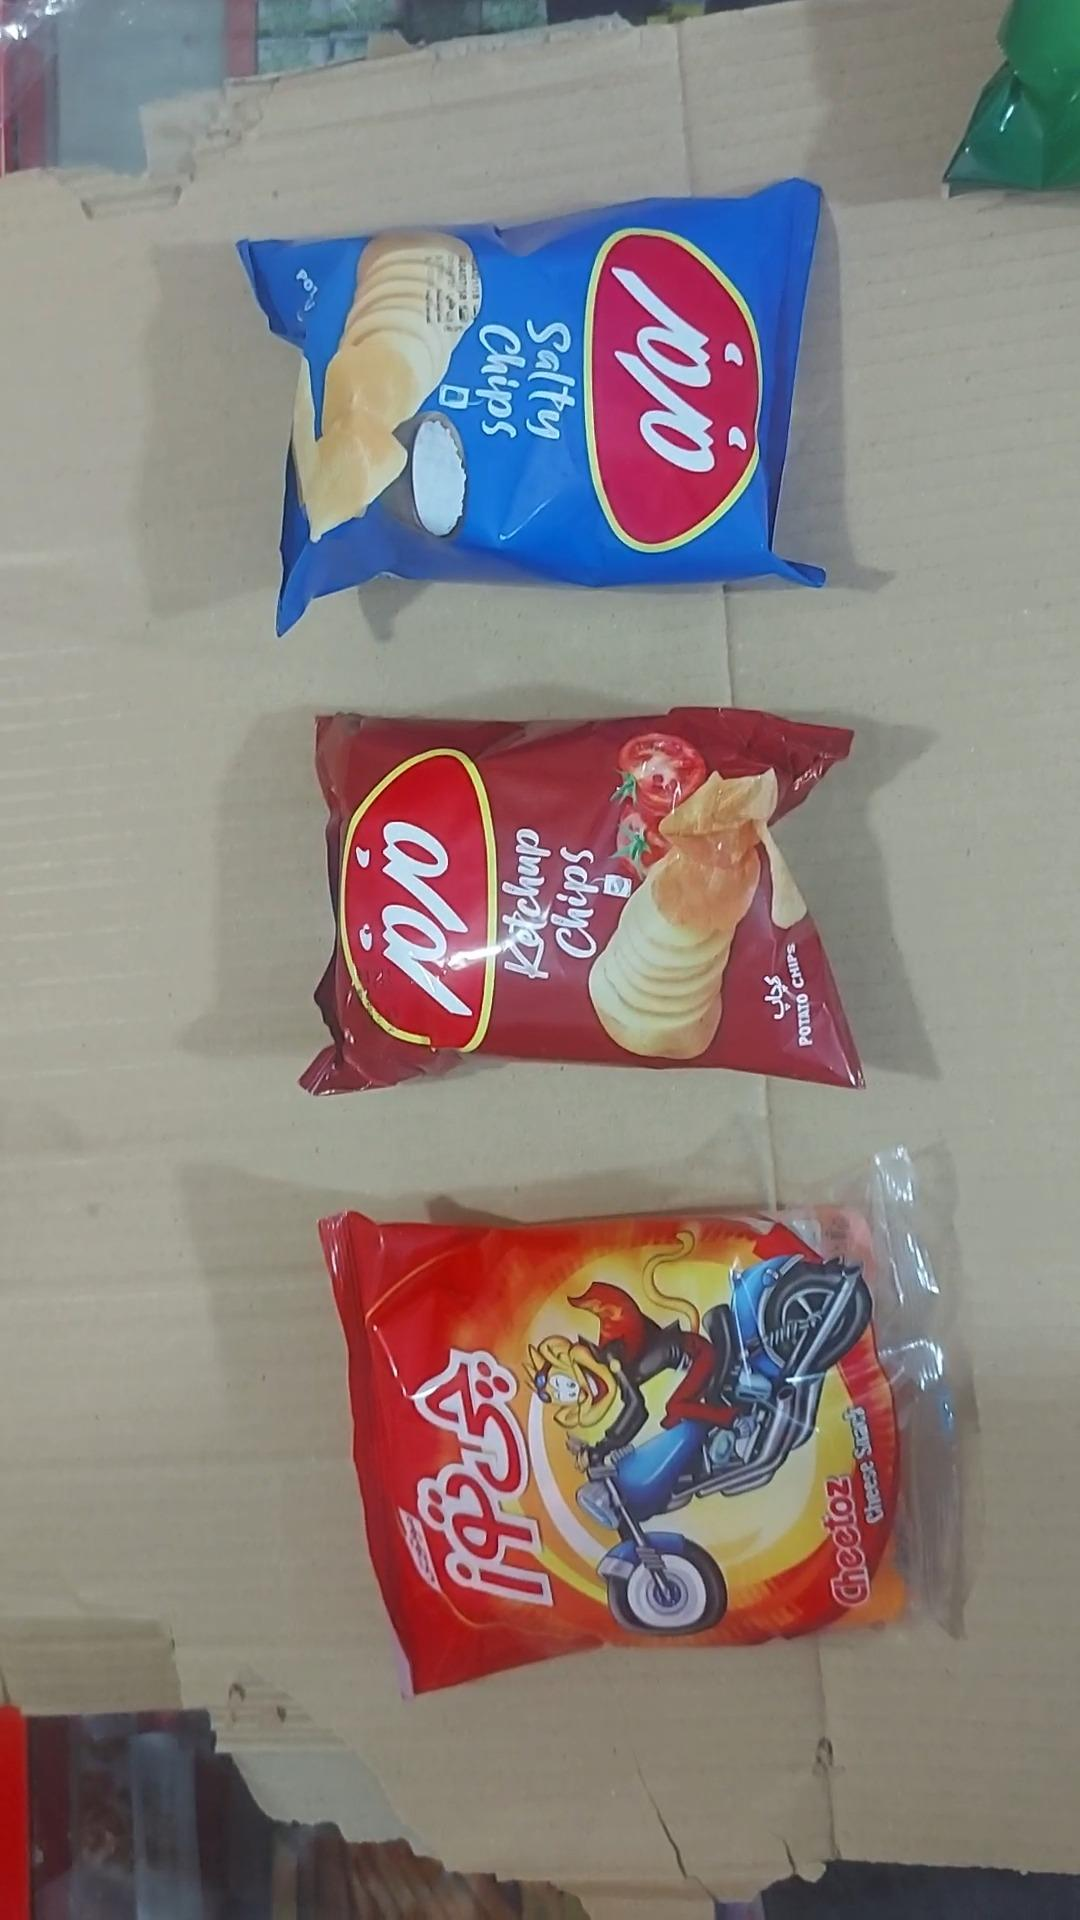Cheetoz snack 30g: (316, 1145, 982, 1702)
Maz Maz ketchup chips: (297, 707, 865, 1100)
Maz Maz salty chips: (237, 179, 831, 640)
